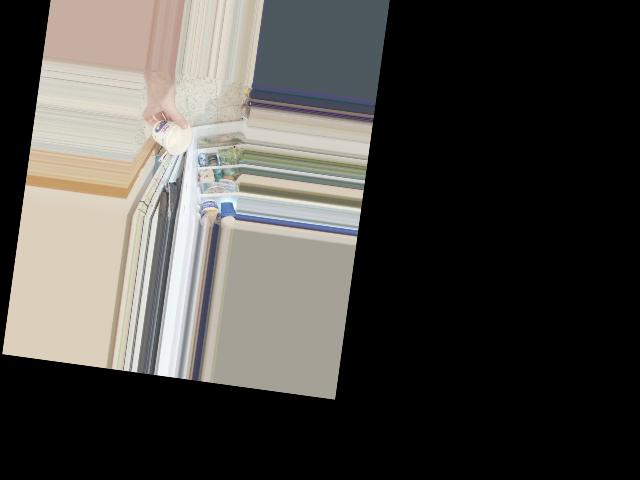cotage: (149, 116, 190, 154)
